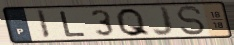3: (89, 9, 116, 37)
I: (35, 9, 52, 40)
J: (151, 5, 175, 37)
L: (59, 10, 88, 38)
Q: (114, 7, 153, 38)
S: (174, 5, 207, 37)
